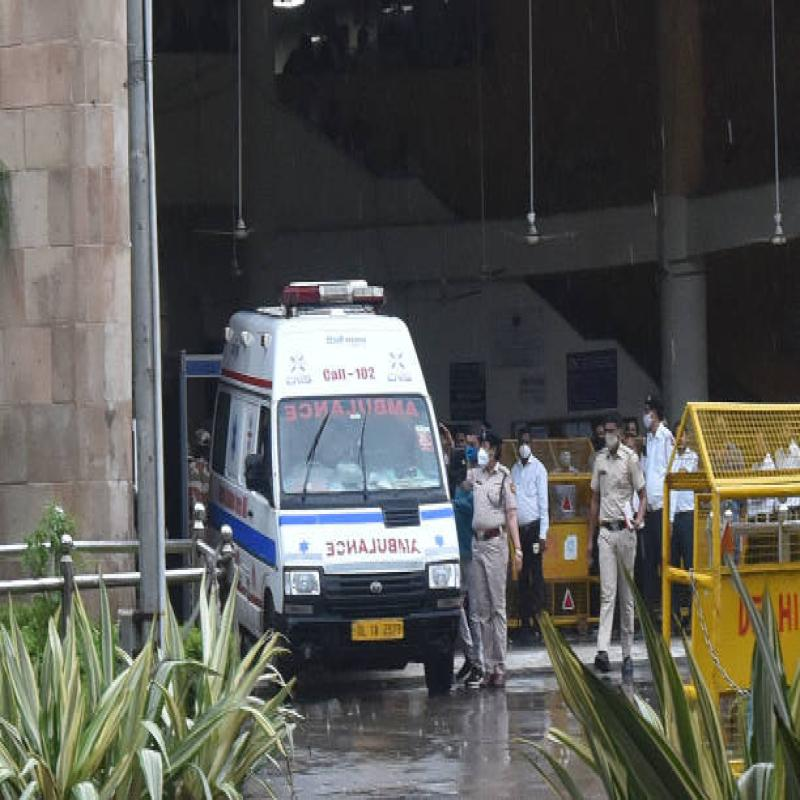ambulance: (207, 255, 474, 694)
